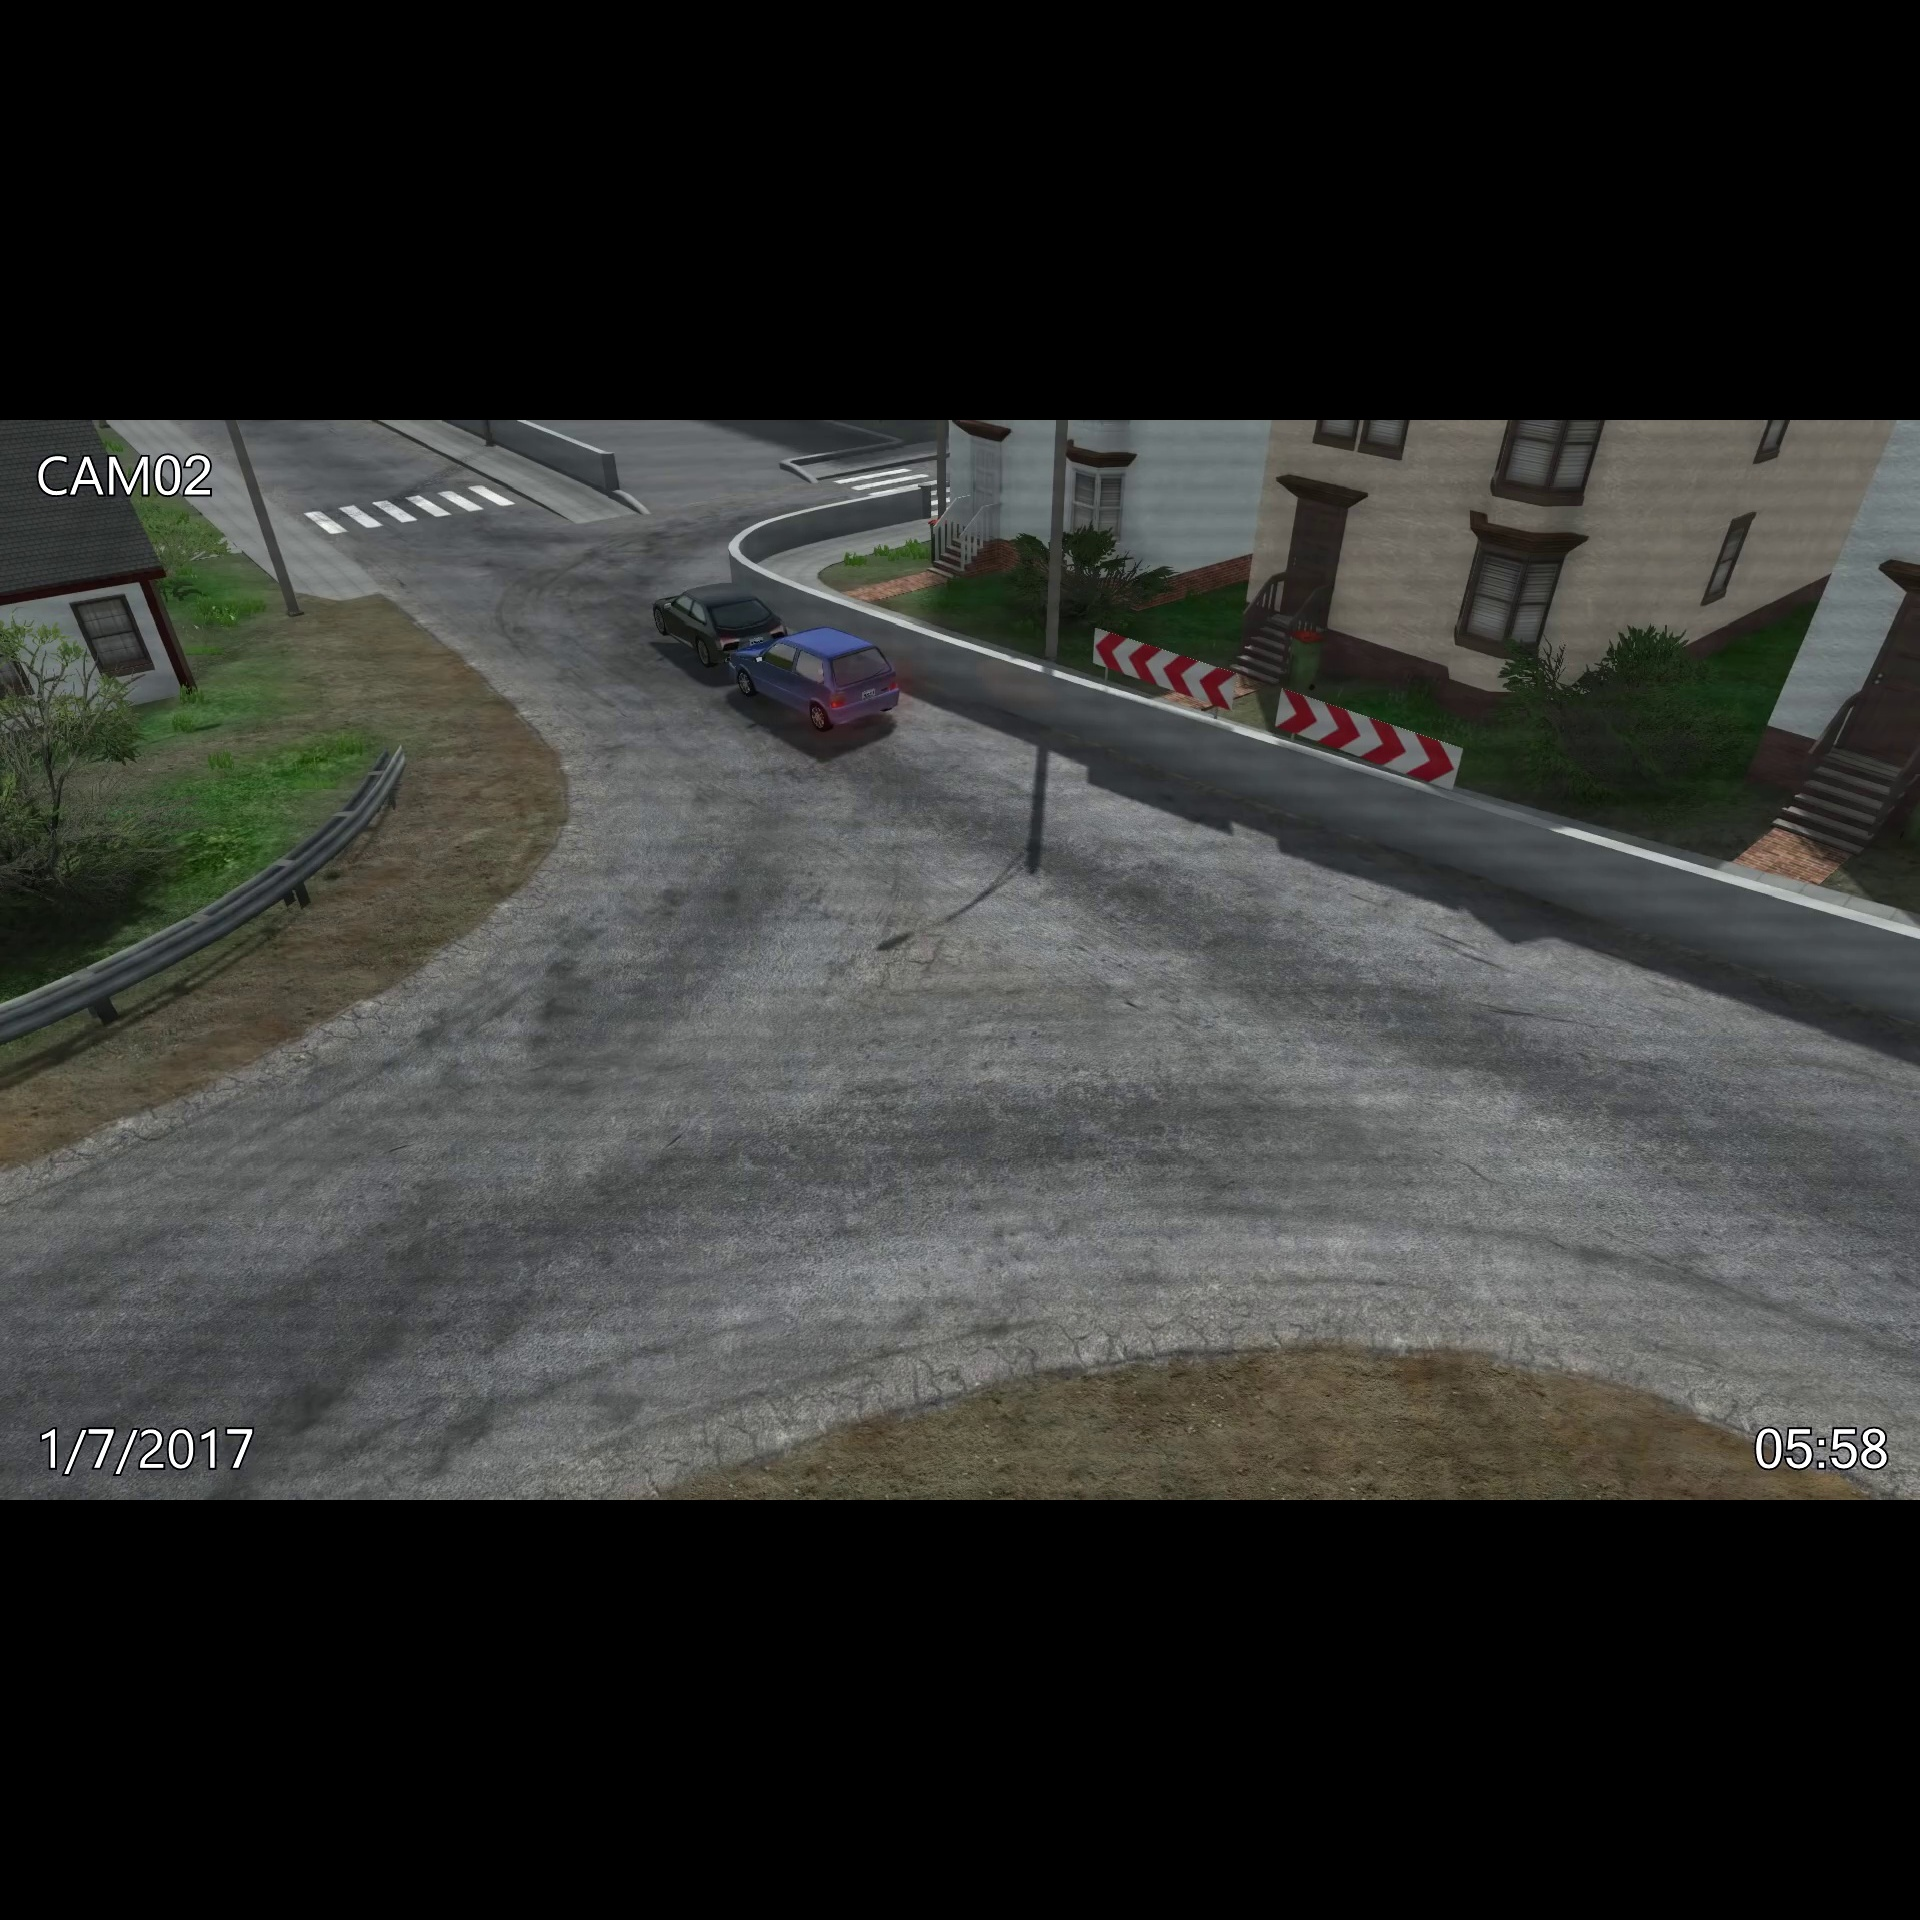vehicle: (726, 622, 904, 733), (647, 577, 791, 666)
